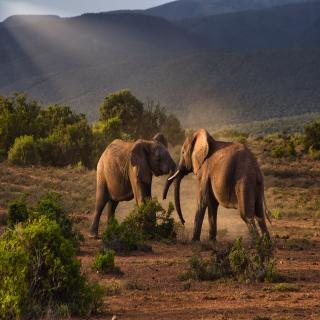Elephant: (174, 118, 278, 258), (86, 130, 178, 244)
